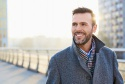male: (69, 9, 97, 46)
